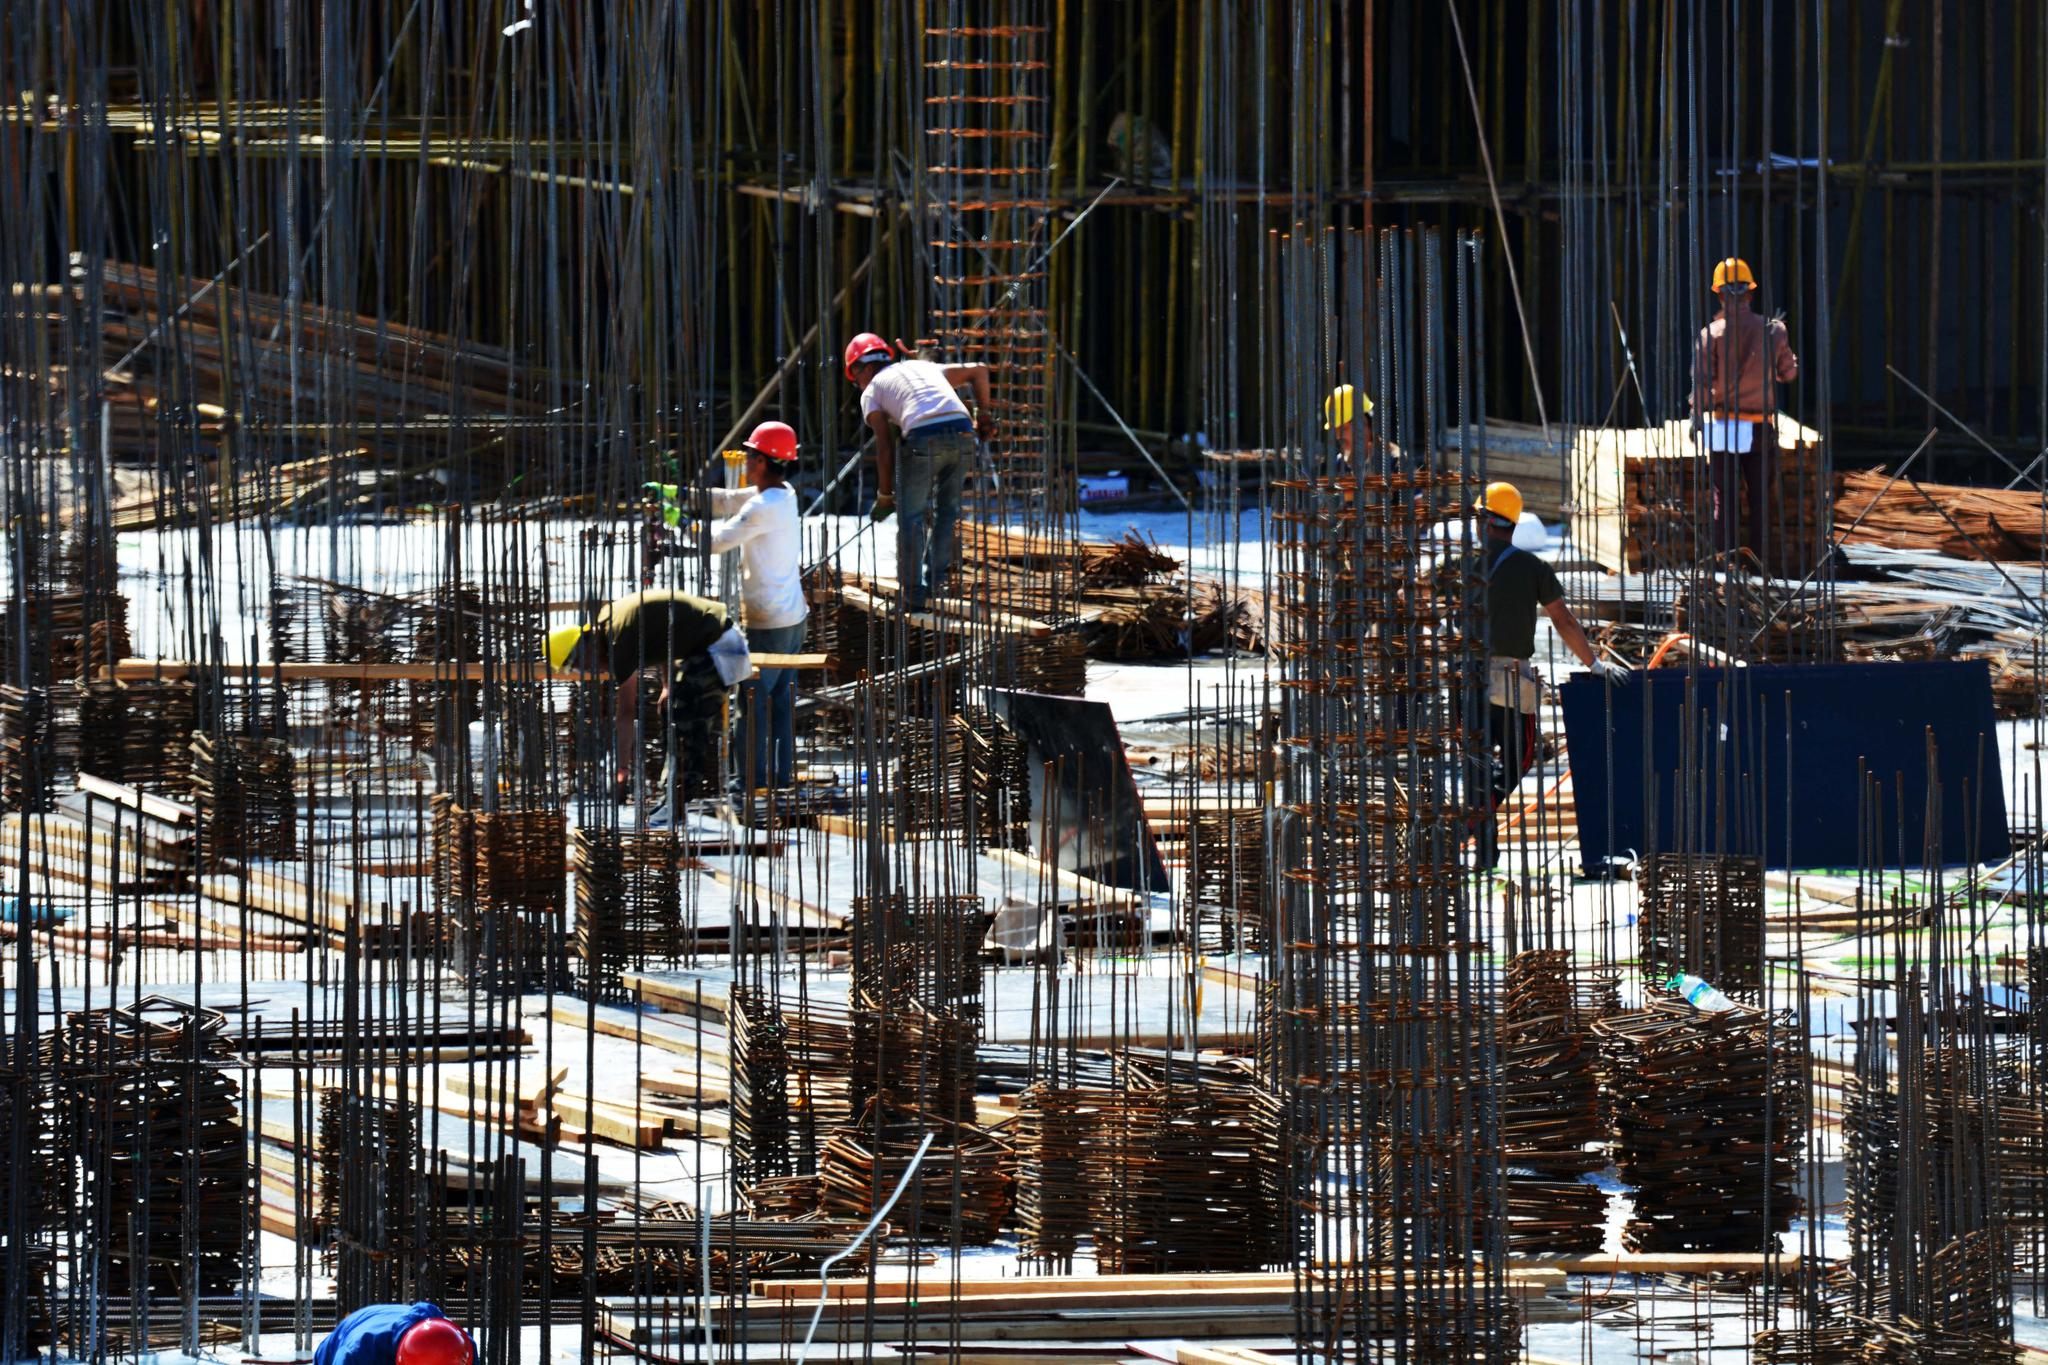safetyhat: (1465, 451, 1608, 714), (707, 417, 837, 690), (815, 312, 993, 494)
